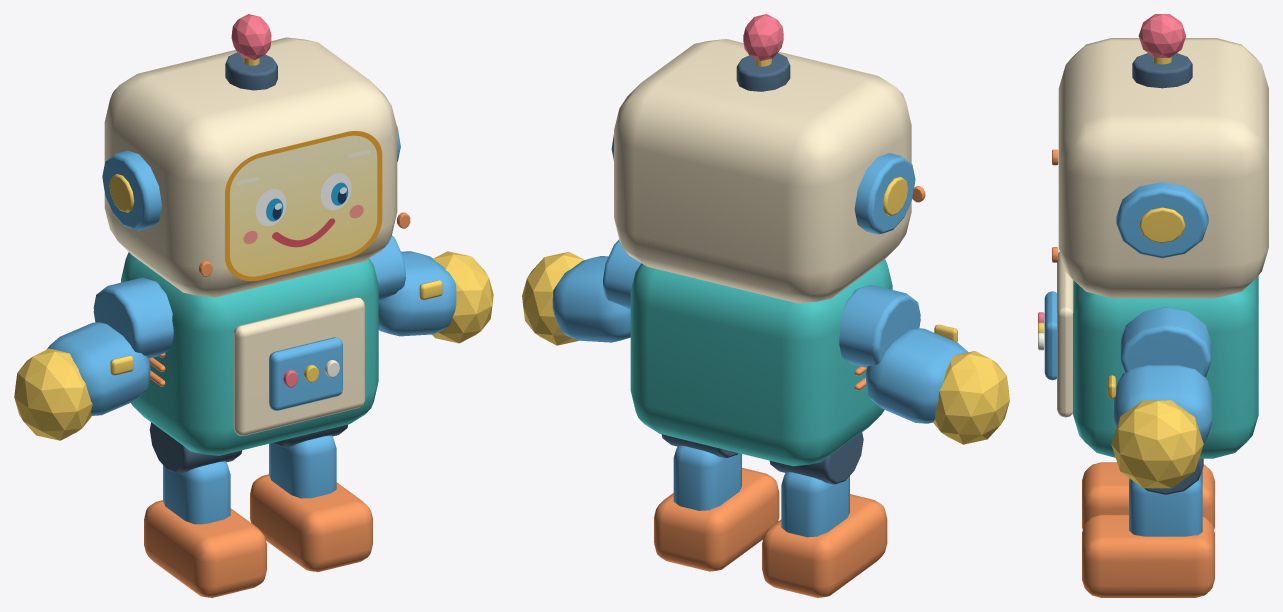
Rendered from asset.glb.
3 views of the same model, side by side, from view 1: azimuth 30°, elevation 25°; view 2: azimuth 150°, elevation 25°; view 3: azimuth 270°, elevation 25° (orthographic).
Parts seen in each view (by area): view 1: Rounded ivory head, Rounded teal torso, Bright smiling robot face, Ivory chest panel, Left sunny boot, Right sunny boot, Left mitten hand, Left short arm, Left shoulder pivot, Right short arm, Blue chest control panel, Left blue shin (+8 smaller); view 2: Rounded ivory head, Rounded teal torso, Left sunny boot, Right sunny boot, Left short arm, Left mitten hand, Left shoulder pivot, Right short arm, Left blue shin, Right blue shin, Left ear cushion, Right mitten hand (+5 smaller); view 3: Rounded ivory head, Rounded teal torso, Right sunny boot, Right mitten hand, Right shoulder pivot, Right ear cushion, Right short arm, Right blue shin, Left sunny boot, Ivory chest panel, Antenna socket, Antenna beacon (+3 smaller).
Part boxes in pixels (left/top/right/bottom): Rounded ivory head: left=104, top=37, right=397, bottom=297; Rounded teal torso: left=121, top=252, right=378, bottom=455; Bright smiling robot face: left=225, top=131, right=382, bottom=281; Ivory chest panel: left=233, top=297, right=365, bottom=435; Left sunny boot: left=144, top=500, right=266, bottom=597; Right sunny boot: left=250, top=474, right=372, bottom=571; Left mitten hand: left=14, top=348, right=92, bottom=440; Left short arm: left=47, top=322, right=150, bottom=415; Left shoulder pivot: left=93, top=277, right=173, bottom=358; Right short arm: left=378, top=251, right=456, bottom=336; Blue chest control panel: left=269, top=337, right=342, bottom=410; Left blue shin: left=163, top=461, right=230, bottom=524; Rounded ivory head: left=614, top=39, right=911, bottom=303; Rounded teal torso: left=630, top=259, right=892, bottom=466; Left sunny boot: left=762, top=494, right=887, bottom=597; Right sunny boot: left=654, top=467, right=779, bottom=571; Left short arm: left=865, top=328, right=968, bottom=423; Left mitten hand: left=933, top=351, right=1009, bottom=444; Left shoulder pivot: left=839, top=285, right=920, bottom=367; Right short arm: left=552, top=256, right=630, bottom=342; Left blue shin: left=781, top=472, right=849, bottom=537; Right blue shin: left=673, top=445, right=741, bottom=510; Left ear cushion: left=854, top=153, right=915, bottom=234; Right mitten hand: left=522, top=252, right=584, bottom=345; Rounded ivory head: left=1058, top=38, right=1268, bottom=298; Rounded teal torso: left=1073, top=275, right=1258, bottom=458; Right sunny boot: left=1082, top=514, right=1214, bottom=597; Right mitten hand: left=1111, top=400, right=1203, bottom=488; Right shoulder pivot: left=1120, top=307, right=1211, bottom=377; Right ear cushion: left=1116, top=182, right=1208, bottom=258; Right short arm: left=1114, top=365, right=1212, bottom=443; Right blue shin: left=1129, top=475, right=1202, bottom=536; Left sunny boot: left=1082, top=462, right=1214, bottom=529; Ivory chest panel: left=1057, top=251, right=1073, bottom=417; Antenna socket: left=1132, top=53, right=1192, bottom=88; Antenna beacon: left=1138, top=14, right=1185, bottom=57.
Size of the model in its own units: 0.7738 by 0.8595 by 0.3295.
Materials: 9 (1 with a texture image).
